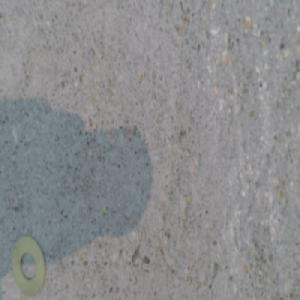Washer: (11, 234, 45, 294)
